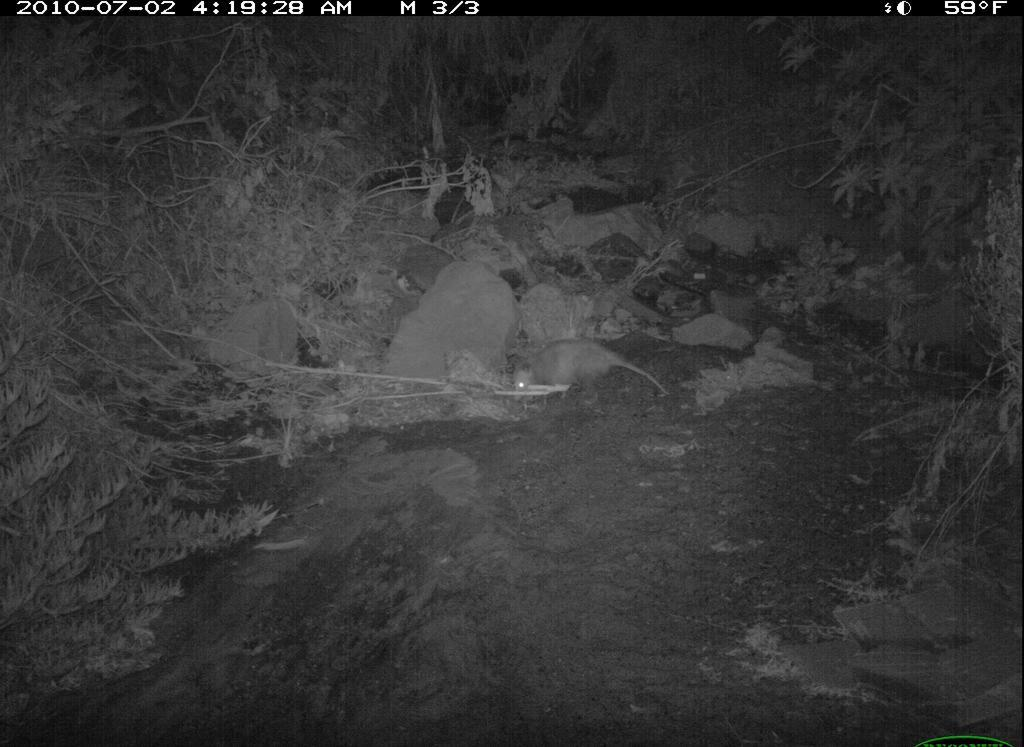opossum: (500, 338, 679, 409)
